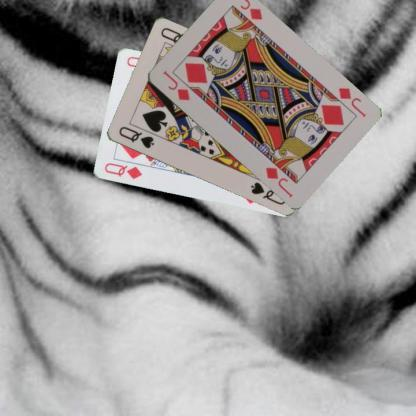Jd: (335, 84, 367, 119), (160, 68, 190, 102)
Qd: (102, 160, 143, 180)
Qs: (116, 124, 156, 150)
